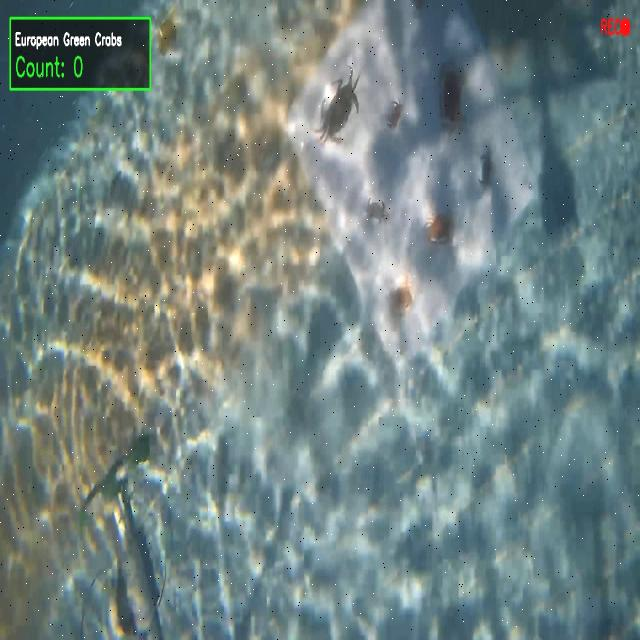European_Green_Crab: (309, 52, 367, 154), (363, 195, 388, 225), (478, 148, 493, 192)
